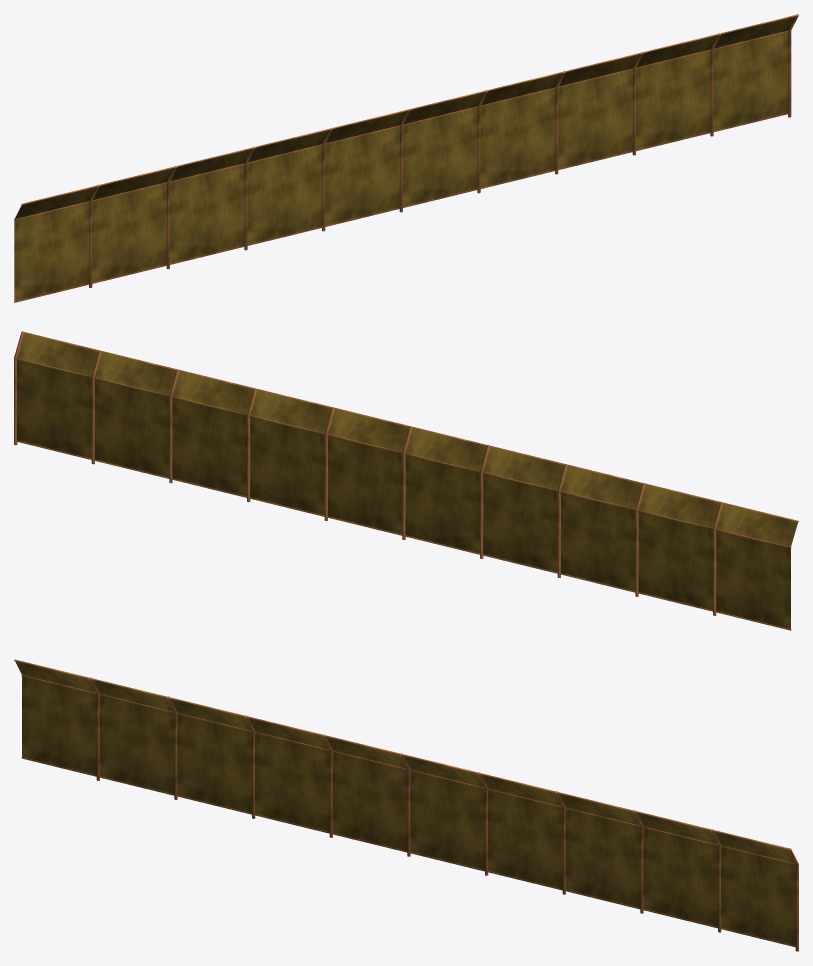
File: Fences.fbx
3 views of the same model, one above another, from view 1: azimuth 30°, elevation 25°; view 2: azimuth 150°, elevation 25°; view 3: azimuth 330°, elevation 25° (orthographic).
Parts seen in each view (by area): view 1: Net (×10); view 2: Net (×10); view 3: Net (×10).
Boxes of the visible parts, <box> form: Net (×10): <box>14,15,795,302</box>; Net (×10): <box>16,332,798,630</box>; Net (×10): <box>14,659,795,947</box>.
Bounding box in the file's own units: 2060 × 40.42 × 274.
1 material, 1 textured.
